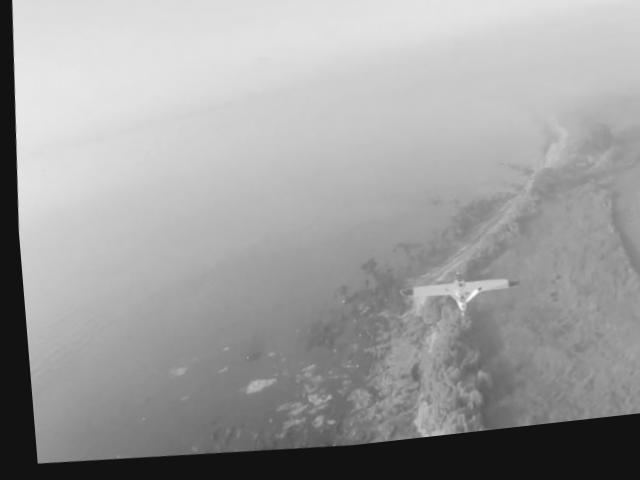hedef: (377, 273, 533, 341)
